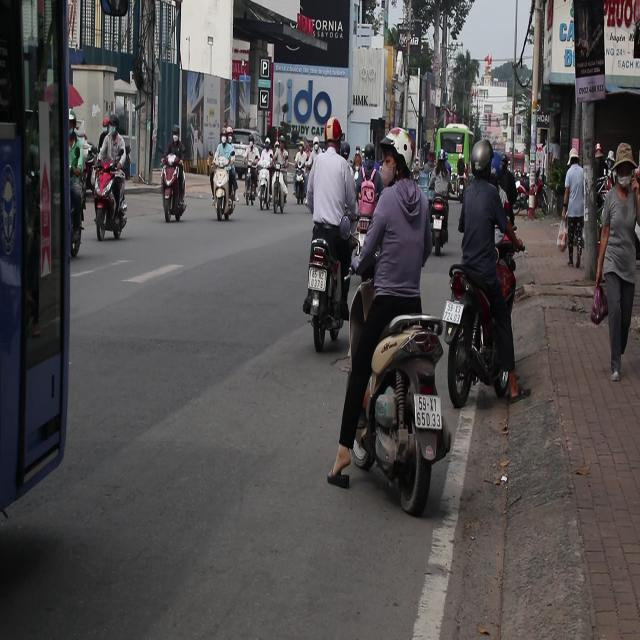bus: (427, 107, 474, 191)
car: (230, 130, 262, 172)
motorbike: (352, 300, 458, 516), (455, 267, 539, 446), (304, 233, 347, 349), (95, 152, 133, 224), (425, 185, 450, 259), (65, 159, 83, 256), (161, 158, 186, 225), (269, 162, 293, 216), (358, 184, 374, 258), (215, 170, 237, 223), (238, 166, 252, 218), (262, 158, 270, 212), (296, 159, 306, 202)
